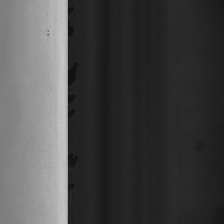oil_spot: (44, 26, 52, 38)
